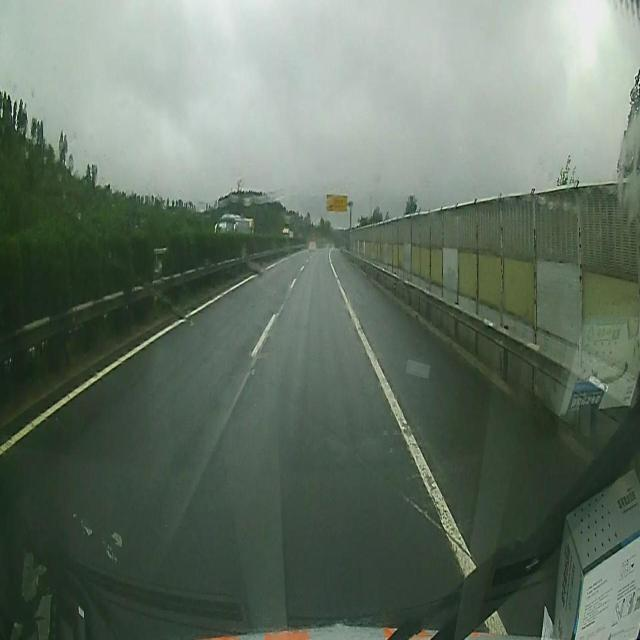car: (306, 235, 318, 252)
